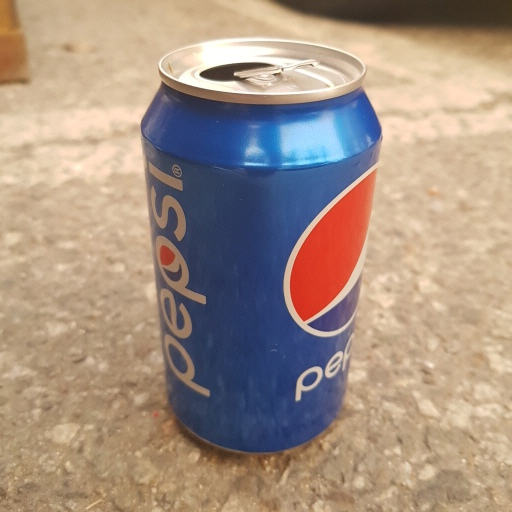Metal_0: (141, 39, 383, 456)
